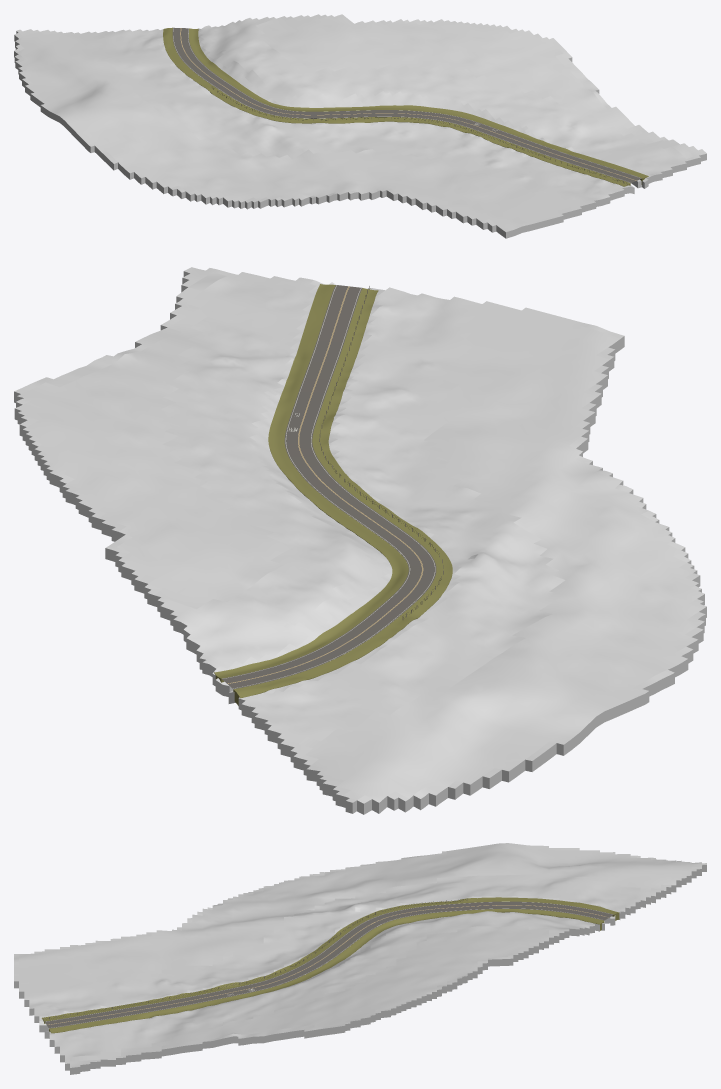
File: conz_54.glb
3 views of the same model, one above another, from view 1: azimuth 30°, elevation 25°; view 2: azimuth 150°, elevation 25°; view 3: azimuth 270°, elevation 25° (orthographic). The views are drawn at different scales.
Parts seen in each view (by area): view 1: terrain54, road54, verge54L, verge54R, paint_yellow54, paint_white54; view 2: terrain54, road54, verge54L, verge54R, paint_white54, paint_yellow54; view 3: terrain54, road54, verge54R, verge54L, paint_white54, paint_yellow54.
Part boxes in pixels (x1,y1,x2,y2): terrain54: (14, 14, 706, 238); road54: (172, 27, 641, 183); verge54L: (163, 27, 630, 186); verge54R: (188, 28, 648, 184); paint_yellow54: (180, 28, 636, 180); paint_white54: (173, 28, 639, 182); terrain54: (14, 267, 706, 814); road54: (221, 285, 436, 688); verge54L: (233, 288, 452, 705); verge54R: (214, 284, 408, 682); paint_white54: (222, 285, 435, 688); paint_yellow54: (228, 286, 423, 683); terrain54: (14, 843, 706, 1074); road54: (44, 901, 613, 1028); verge54R: (49, 909, 604, 1033); verge54L: (42, 897, 619, 1023); paint_white54: (46, 901, 608, 1027); paint_yellow54: (48, 905, 608, 1024).
Bounding box in the file's own units: 214 × 26.32 × 272.
